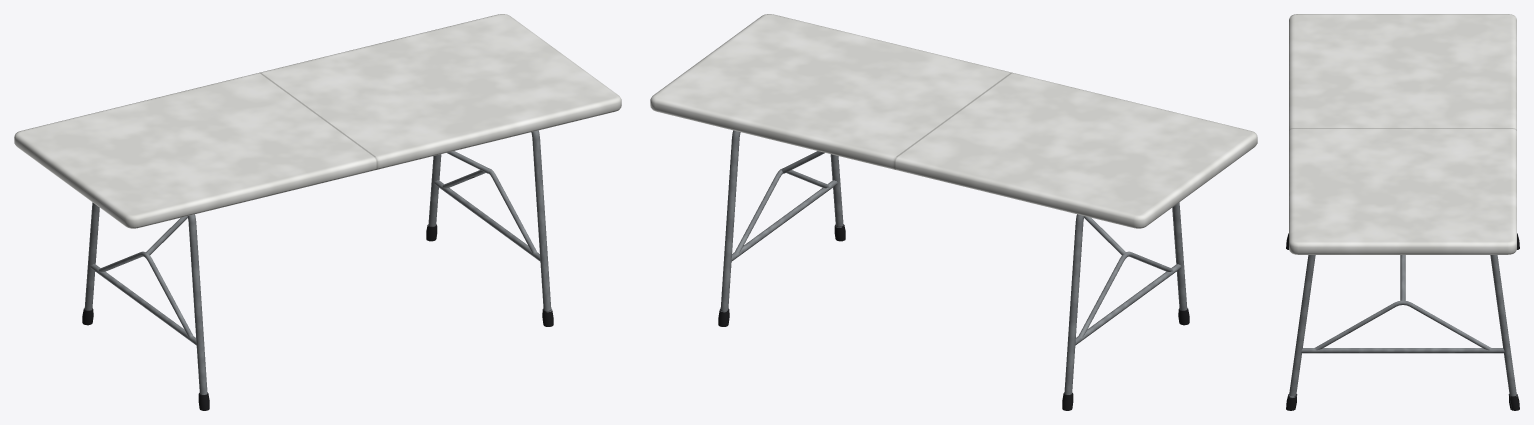
Rendered from FoldingTable.fbx.
The picture shows the model from 3 angles, left to right: view 1: azimuth 30°, elevation 25°; view 2: azimuth 150°, elevation 25°; view 3: azimuth 270°, elevation 25°; orthographic projection. The views are drawn at different scales.
Parts seen in each view (by area): view 1: FoldingTable_Top, FoldingTable_LegsB, FoldingTable_LegsA; view 2: FoldingTable_Top, FoldingTable_LegsB, FoldingTable_LegsA; view 3: FoldingTable_Top, FoldingTable_LegsA.
Part boxes in pixels (box(x1,y1,x2,y2)): FoldingTable_Top: box(14, 14, 621, 228); FoldingTable_LegsB: box(82, 202, 209, 410); FoldingTable_LegsA: box(426, 130, 553, 326); FoldingTable_Top: box(650, 14, 1257, 228); FoldingTable_LegsB: box(1062, 202, 1189, 410); FoldingTable_LegsA: box(718, 130, 845, 326); FoldingTable_Top: box(1289, 14, 1516, 254); FoldingTable_LegsA: box(1286, 255, 1519, 410).
Size of the model in its own units: 1.83 by 0.737 by 0.7804.
